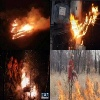fire: (69, 2, 98, 38), (58, 80, 100, 100), (12, 20, 35, 39), (22, 72, 29, 88), (30, 87, 36, 97)
